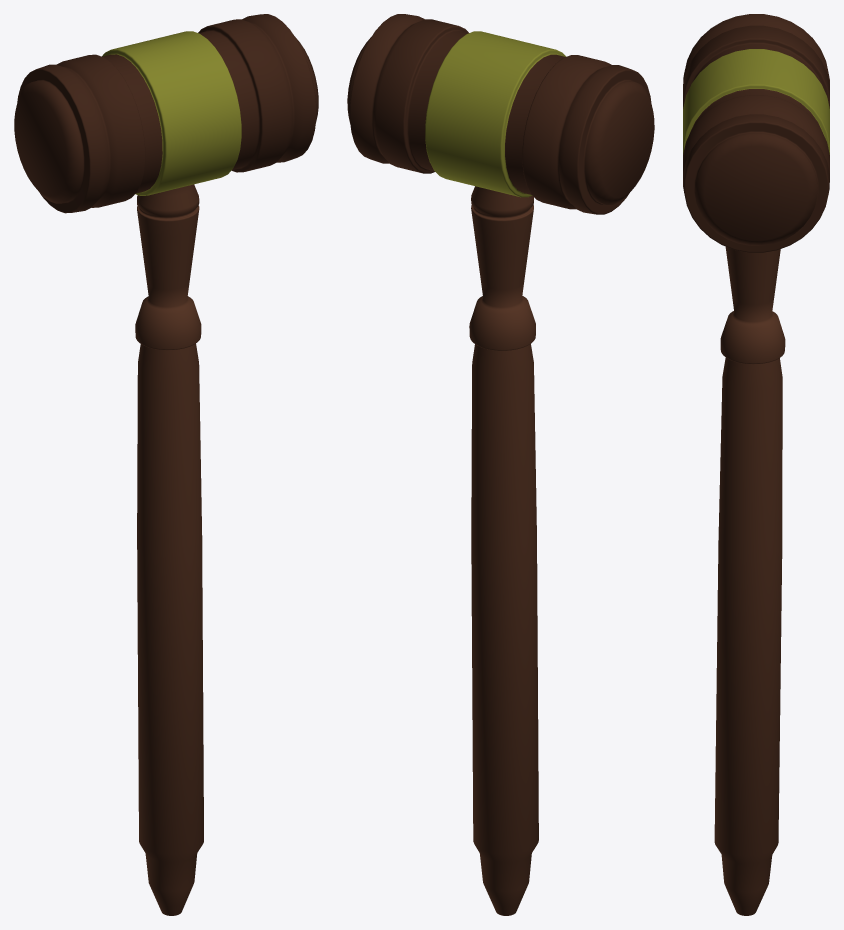
File: Gavel.fbx
3 views of the same model, side by side, from view 1: azimuth 30°, elevation 25°; view 2: azimuth 150°, elevation 25°; view 3: azimuth 270°, elevation 25° (orthographic). The views are drawn at different scales.
Parts seen in each view (by area): view 1: Gavel; view 2: Gavel; view 3: Gavel.
Part boxes in pixels (left/top/right/bottom): Gavel: left=14, top=14, right=318, bottom=915; Gavel: left=347, top=14, right=654, bottom=915; Gavel: left=683, top=14, right=829, bottom=915.
Size of the model in its own units: 392 by 1287 by 203.
